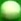white: (0, 0, 21, 21)
